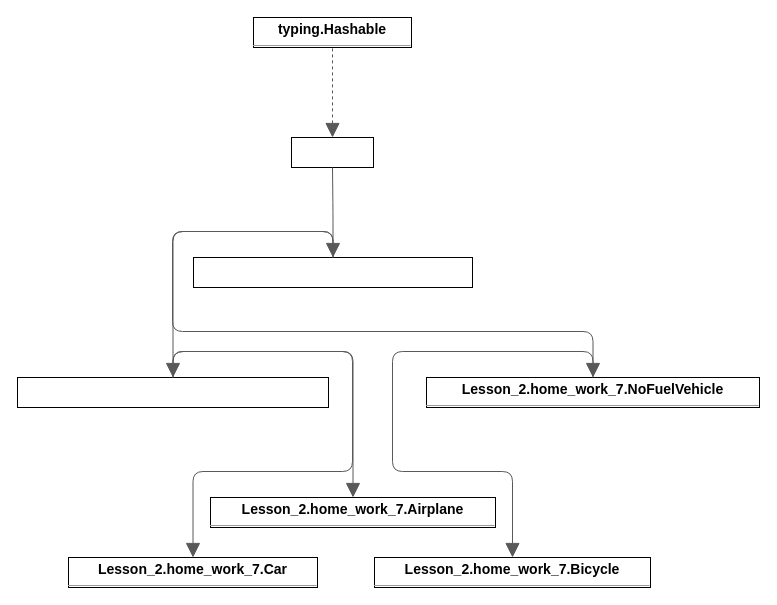
Image size: 777x605. Some labels were removed from this diagram. Here are the shapes that lost their labels. From the top down, the centre of each, then its label:
At point 332,152: "object".
At point 332,272: "Lesson_2.home_work_7.Vehicle".
At point 172,392: "Lesson_2.home_work_7.FuelVehicle".
